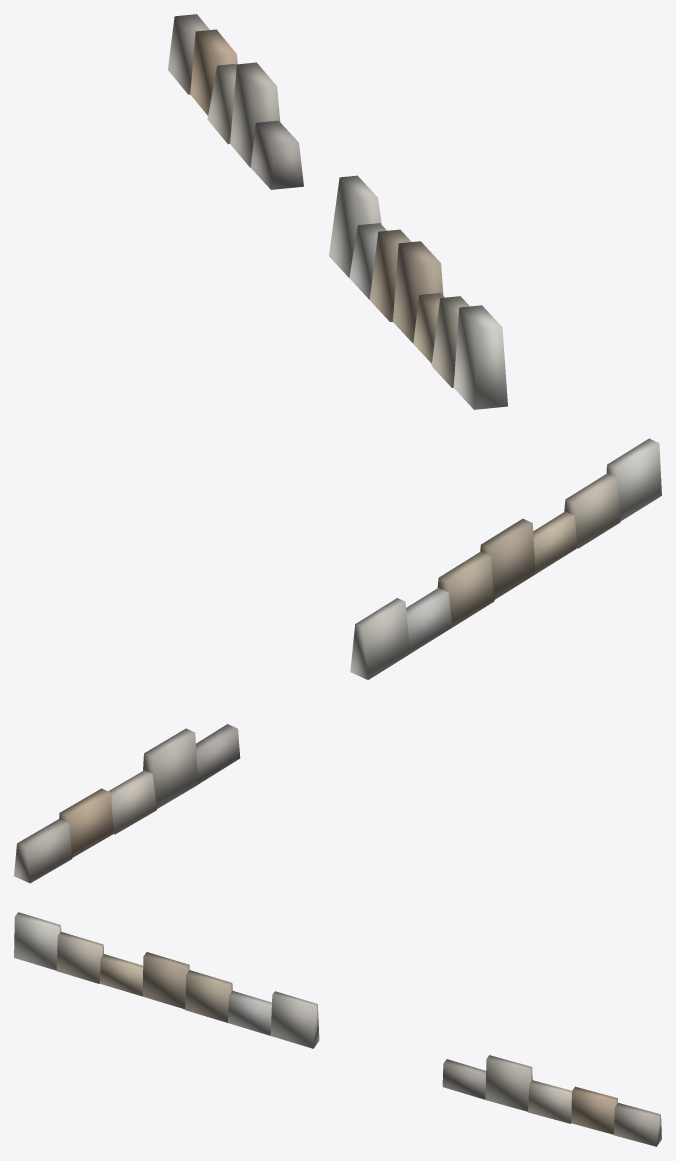
The model's file is farm_0_8_collision.glb.
3 views of the same model, one above another, from view 1: azimuth 30°, elevation 25°; view 2: azimuth 150°, elevation 25°; view 3: azimuth 270°, elevation 25° (orthographic). The views are drawn at different scales.
Visible parts, largest first — view 1: geometry_0; view 2: geometry_0; view 3: geometry_0.
Boxes of the visible parts, box(x1,y1,x2,y2) form: geometry_0: box(168, 14, 507, 409); geometry_0: box(14, 438, 661, 883); geometry_0: box(14, 912, 661, 1146).
Size of the model in its own units: 7.5 by 5.71 by 22.91.
